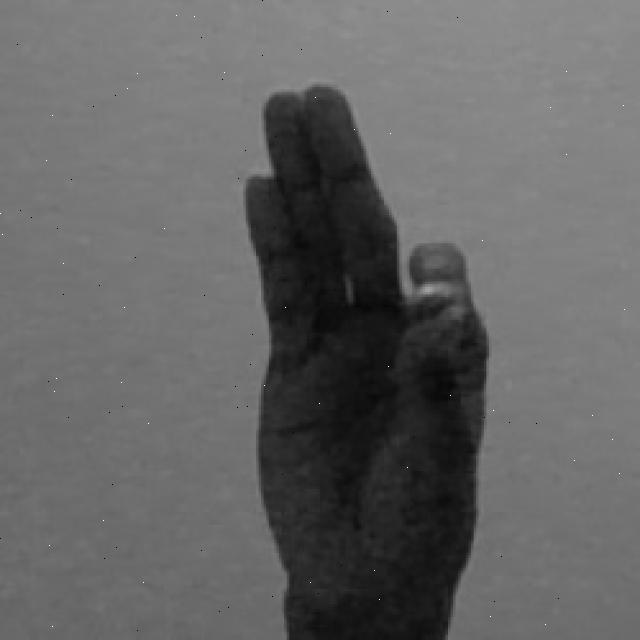F: (238, 84, 486, 640)
